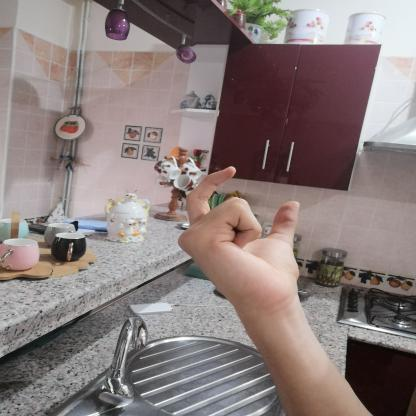NOON: (166, 159, 310, 319)
